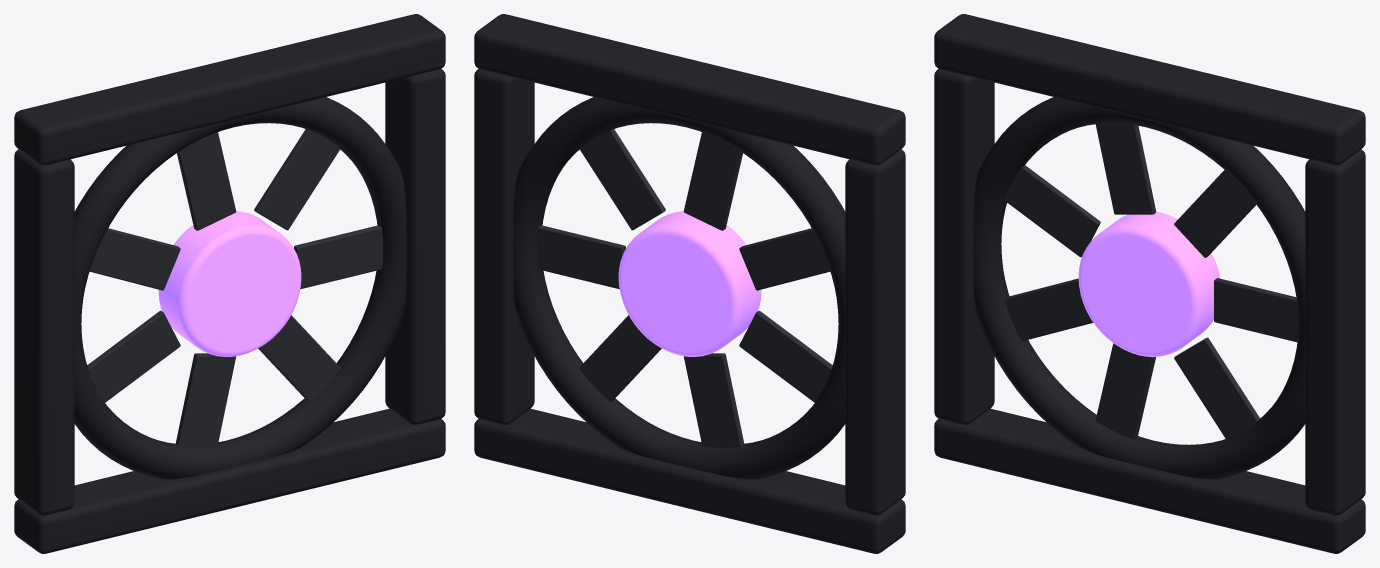
3 renders of one model, left to right at view 1: azimuth 30°, elevation 25°; view 2: azimuth 150°, elevation 25°; view 3: azimuth 330°, elevation 25°, orthographic.
Visible parts, largest first — view 1: part_067; view 2: part_067; view 3: part_067.
Boxes of the visible parts, x1,y1,x2,y2 form: part_067: [14, 14, 445, 553]; part_067: [474, 14, 905, 553]; part_067: [934, 14, 1365, 553].
Size of the model in its own units: 1.2 by 1.2 by 0.15.
